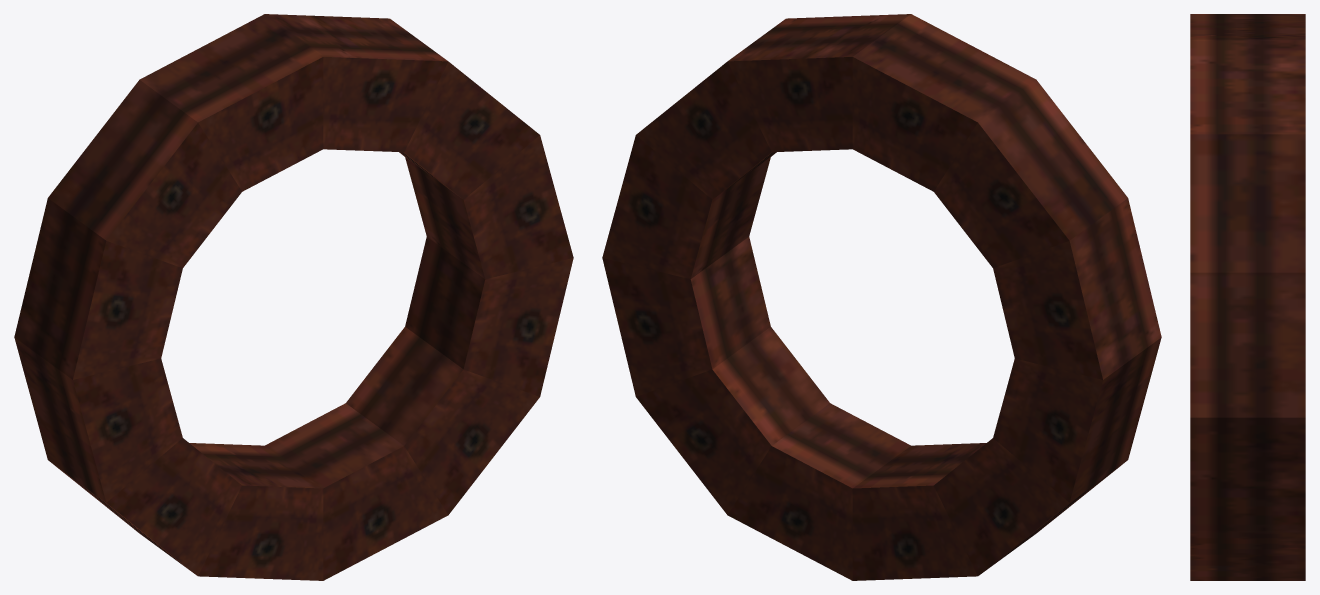
Rendered from fibreoptic_cable_red_holder.dae.
The picture shows the model from 3 angles, left to right: view 1: azimuth 30°, elevation 25°; view 2: azimuth 150°, elevation 25°; view 3: azimuth 270°, elevation 25°; orthographic projection.
Visible parts, largest first — view 1: holder; view 2: holder; view 3: holder.
Part boxes in pixels (x1,y1,x2,y2): holder: (14, 14, 573, 580); holder: (602, 14, 1161, 580); holder: (1190, 14, 1305, 580).
Bounding box in the file's own units: 0.1803 × 0.1803 × 0.0365.
